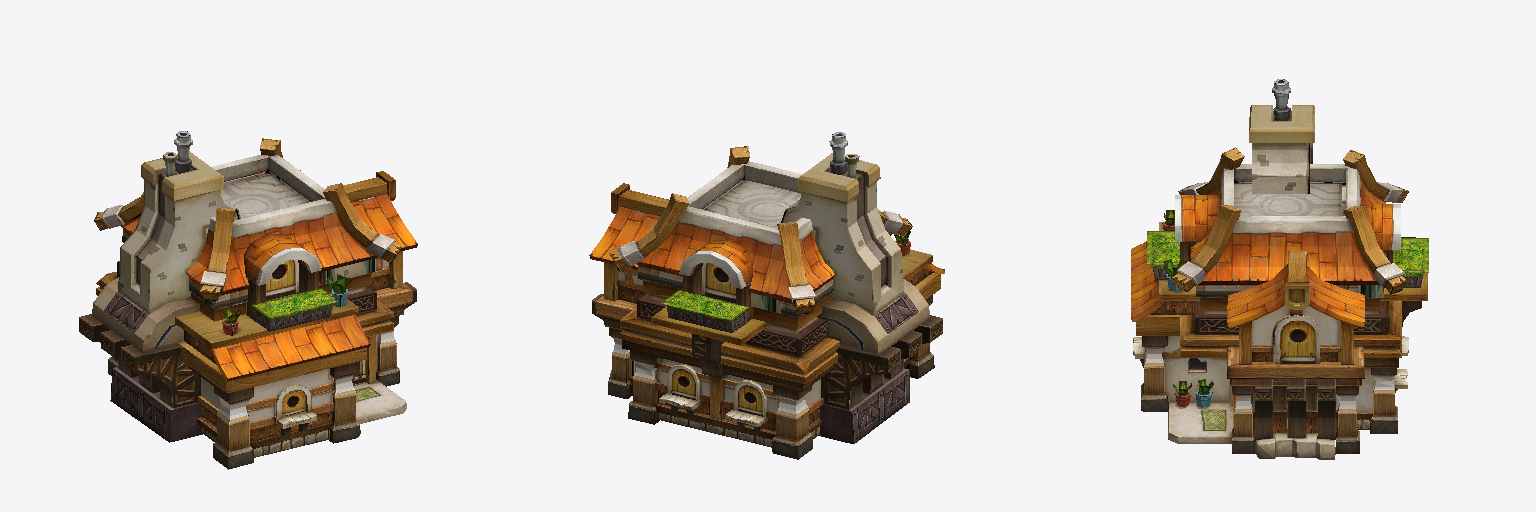
3 views of the same model, side by side, from view 1: azimuth 30°, elevation 25°; view 2: azimuth 150°, elevation 25°; view 3: azimuth 270°, elevation 25° (orthographic).
Parts seen in each view (by area): view 1: objpolySurface1176; view 2: objpolySurface1176; view 3: objpolySurface1176.
Boxes of the visible parts, x1,y1,x2,y2 form: objpolySurface1176: [79, 131, 417, 469]; objpolySurface1176: [589, 132, 944, 459]; objpolySurface1176: [1131, 79, 1428, 459].
Bounding box in the file's own units: 478 × 428 × 417.
Materials: 1 (1 with a texture image).